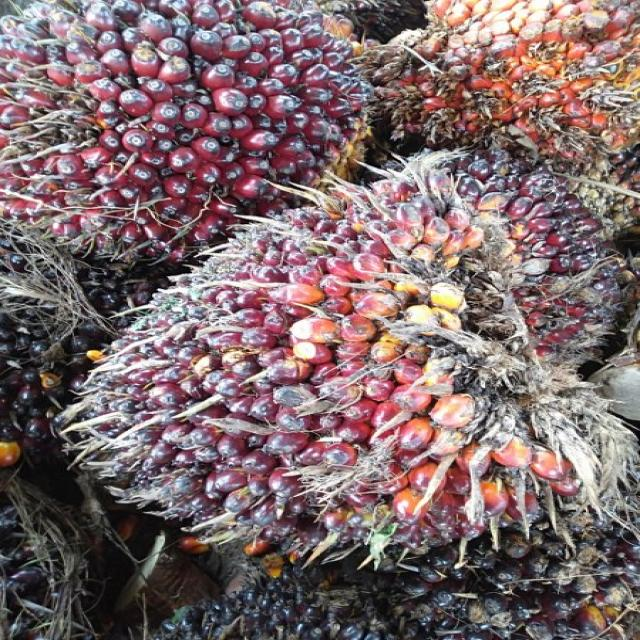fraksi 1: (21, 59, 640, 602)
